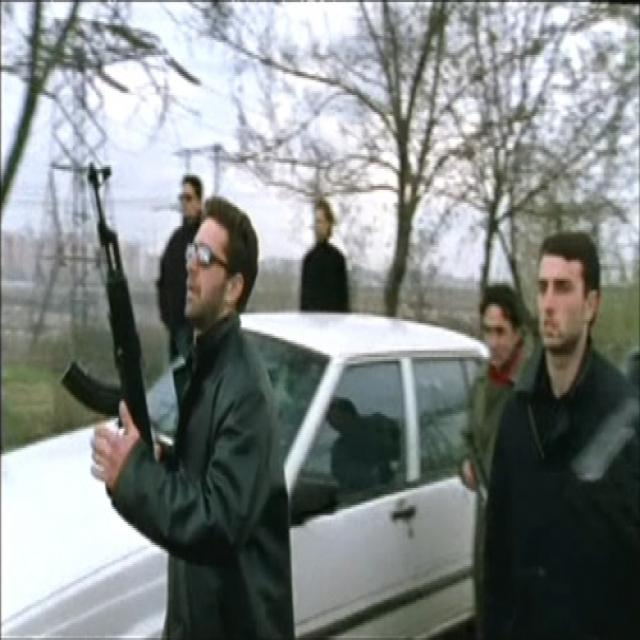rifle: (58, 157, 161, 456)
